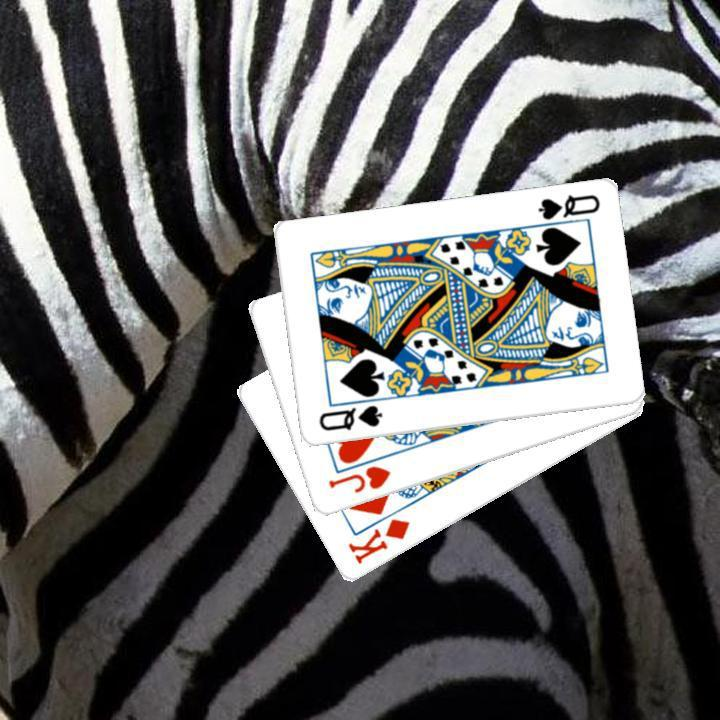J: (324, 462, 392, 496)
K: (343, 514, 412, 567)
Q: (314, 401, 384, 434), (533, 190, 601, 222)
